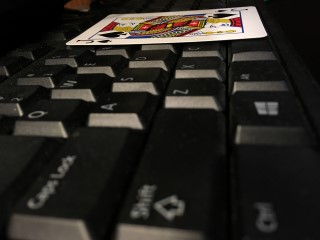JackOfSpades: (65, 4, 268, 45)
